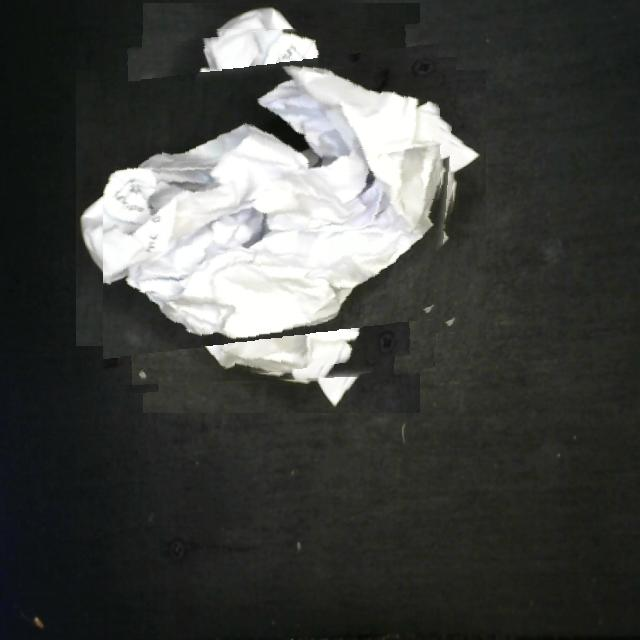biodegradable: (103, 29, 460, 387)
